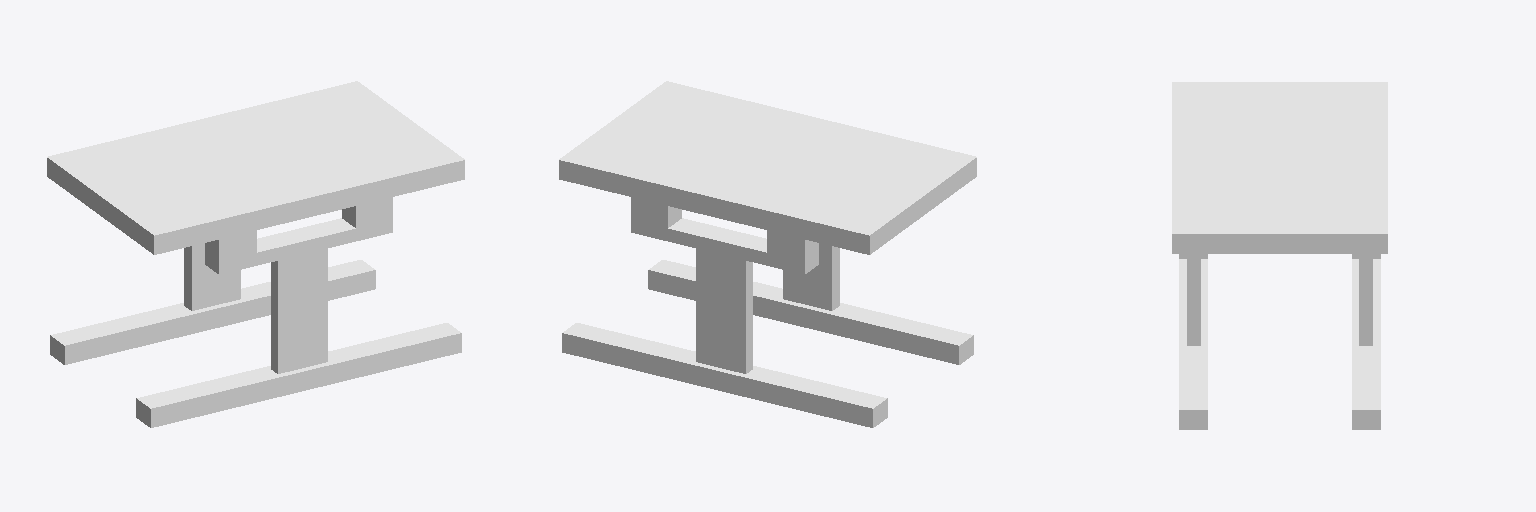
File: Deskone.obj
The picture shows the model from 3 angles: view 1: azimuth 30°, elevation 25°; view 2: azimuth 150°, elevation 25°; view 3: azimuth 270°, elevation 25°; orthographic projection.
Parts seen in each view (by area): view 1: object 1; view 2: object 1; view 3: object 1.
Boxes of the visible parts, x1,y1,x2,y2 form: object 1: [47, 81, 464, 427]; object 1: [559, 81, 976, 427]; object 1: [1172, 82, 1387, 429].
Bounding box in the file's own units: 5 × 3 × 3.